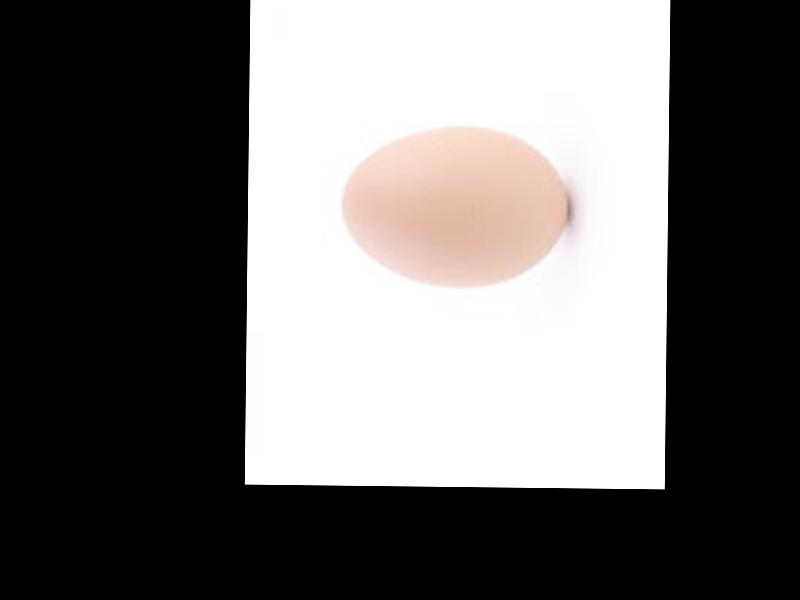Eggs: (341, 125, 568, 291)
